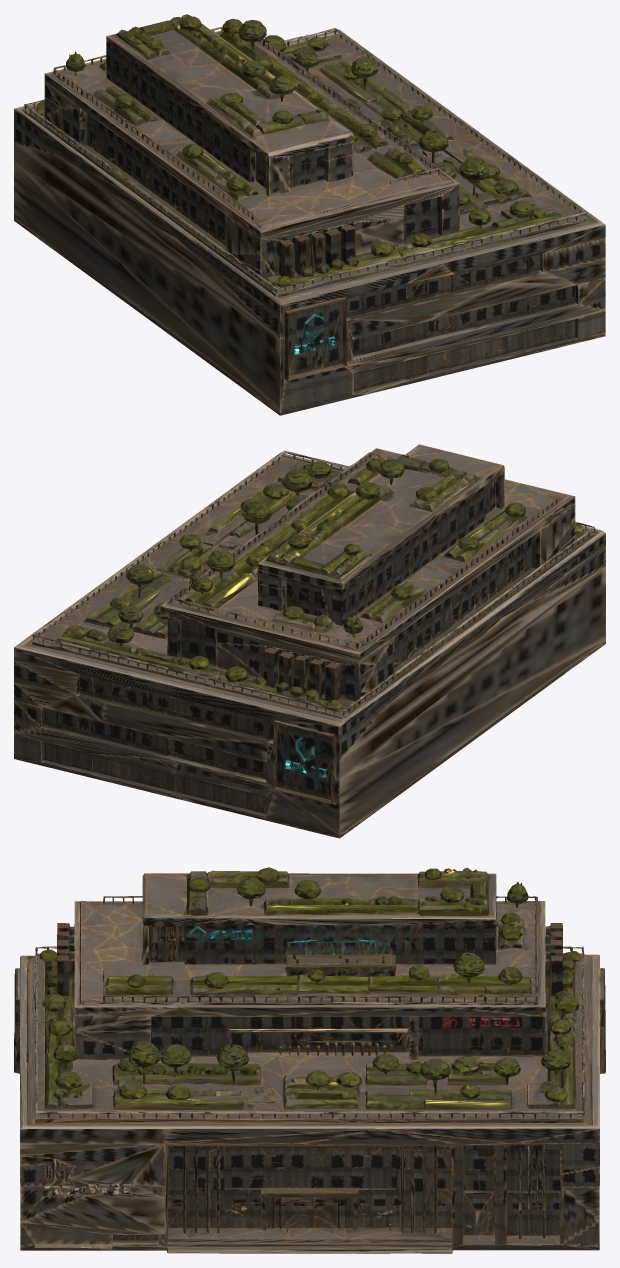
3 renders of one model, top to bottom at view 1: azimuth 30°, elevation 25°; view 2: azimuth 150°, elevation 25°; view 3: azimuth 270°, elevation 25°, orthographic. The views are drawn at different scales.
Parts seen in each view (by area): view 1: c04; view 2: c04; view 3: c04.
Part boxes in pixels (x1,y1,x2,y2): c04: [14, 14, 605, 415]; c04: [14, 444, 605, 838]; c04: [14, 867, 605, 1253].
Size of the model in its own units: 71.2 by 48 by 101.
1 material, 1 textured.
